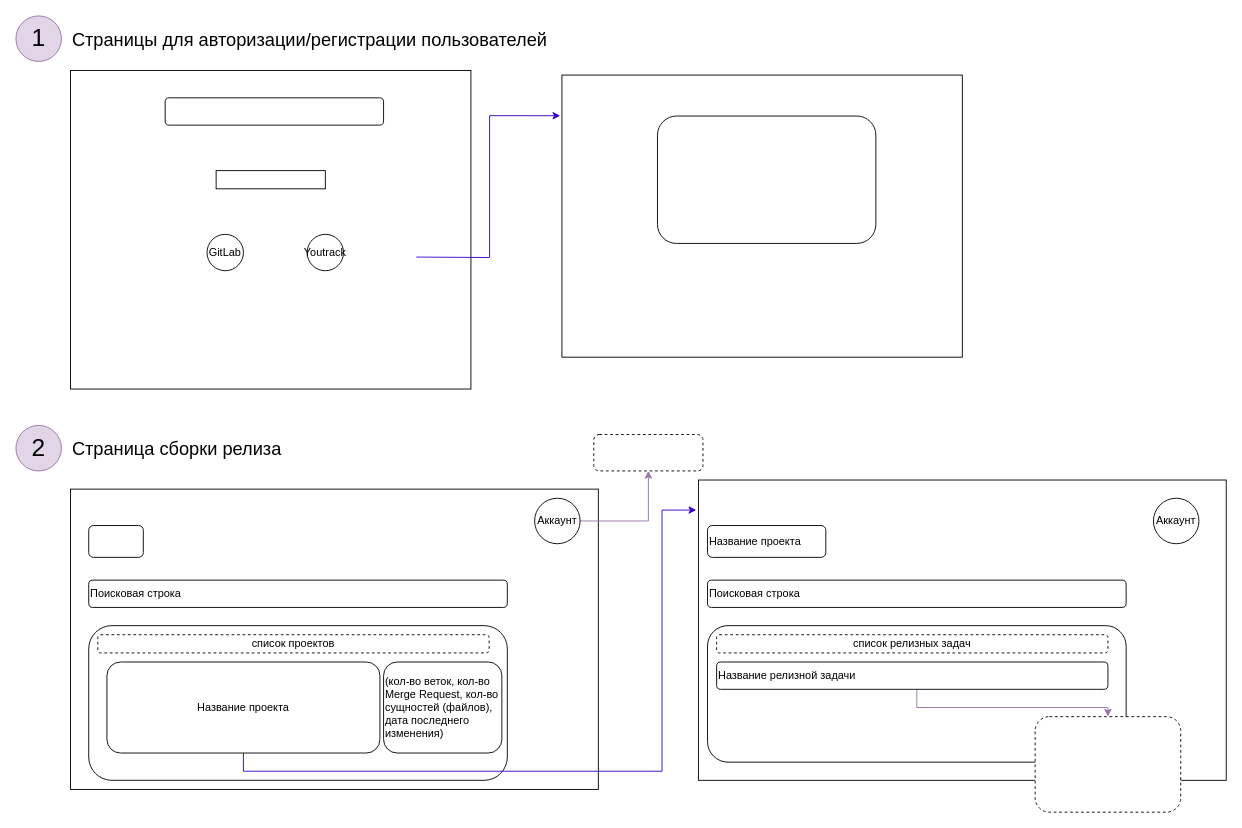
Image size: 1242x828. Some labels were removed from this diagram. Here are the shapes that lost their labels. From the top down, the centre of each, then its label:
point (274, 111): Авторизация
point (270, 179): войти по
point (766, 179): Подтверждение аккаунта (скорее всего на платформе GitLab/Yotrack)
point (648, 452): Выйти из аккаунта
point (115, 541): Проекты
point (1107, 764): Выпадающий список для выбора ветки, из которой будет создана релизная ветка
